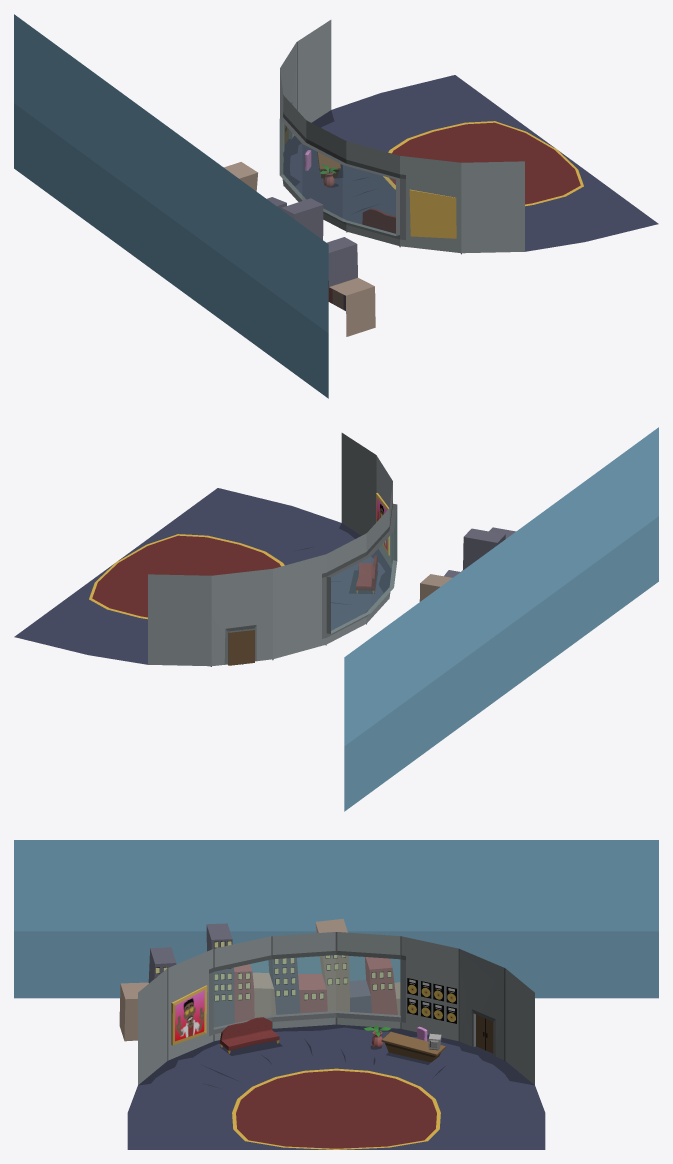
The model's file is RecordRoom.fbx.
3 renders of one model, top to bottom at view 1: azimuth 30°, elevation 25°; view 2: azimuth 150°, elevation 25°; view 3: azimuth 270°, elevation 25°, orthographic. The views are drawn at different scales.
Visible parts, largest first — view 1: Sky, Room, Buildings; view 2: Sky, Room, Buildings; view 3: Sky, Room, Buildings.
Boxes of the visible parts, x1=… form: Sky: x1=14, y1=14, x2=328, y2=398; Room: x1=279, y1=20, x2=658, y2=254; Buildings: x1=224, y1=162, x2=375, y2=336; Sky: x1=344, y1=427, x2=658, y2=811; Room: x1=14, y1=433, x2=397, y2=666; Buildings: x1=419, y1=527, x2=515, y2=601; Sky: x1=14, y1=840, x2=658, y2=998; Room: x1=127, y1=932, x2=545, y2=1149; Buildings: x1=119, y1=918, x2=400, y2=1041.
Bounding box in the file's own units: 93.26 × 35.7 × 132.
33 materials, 1 textured.
